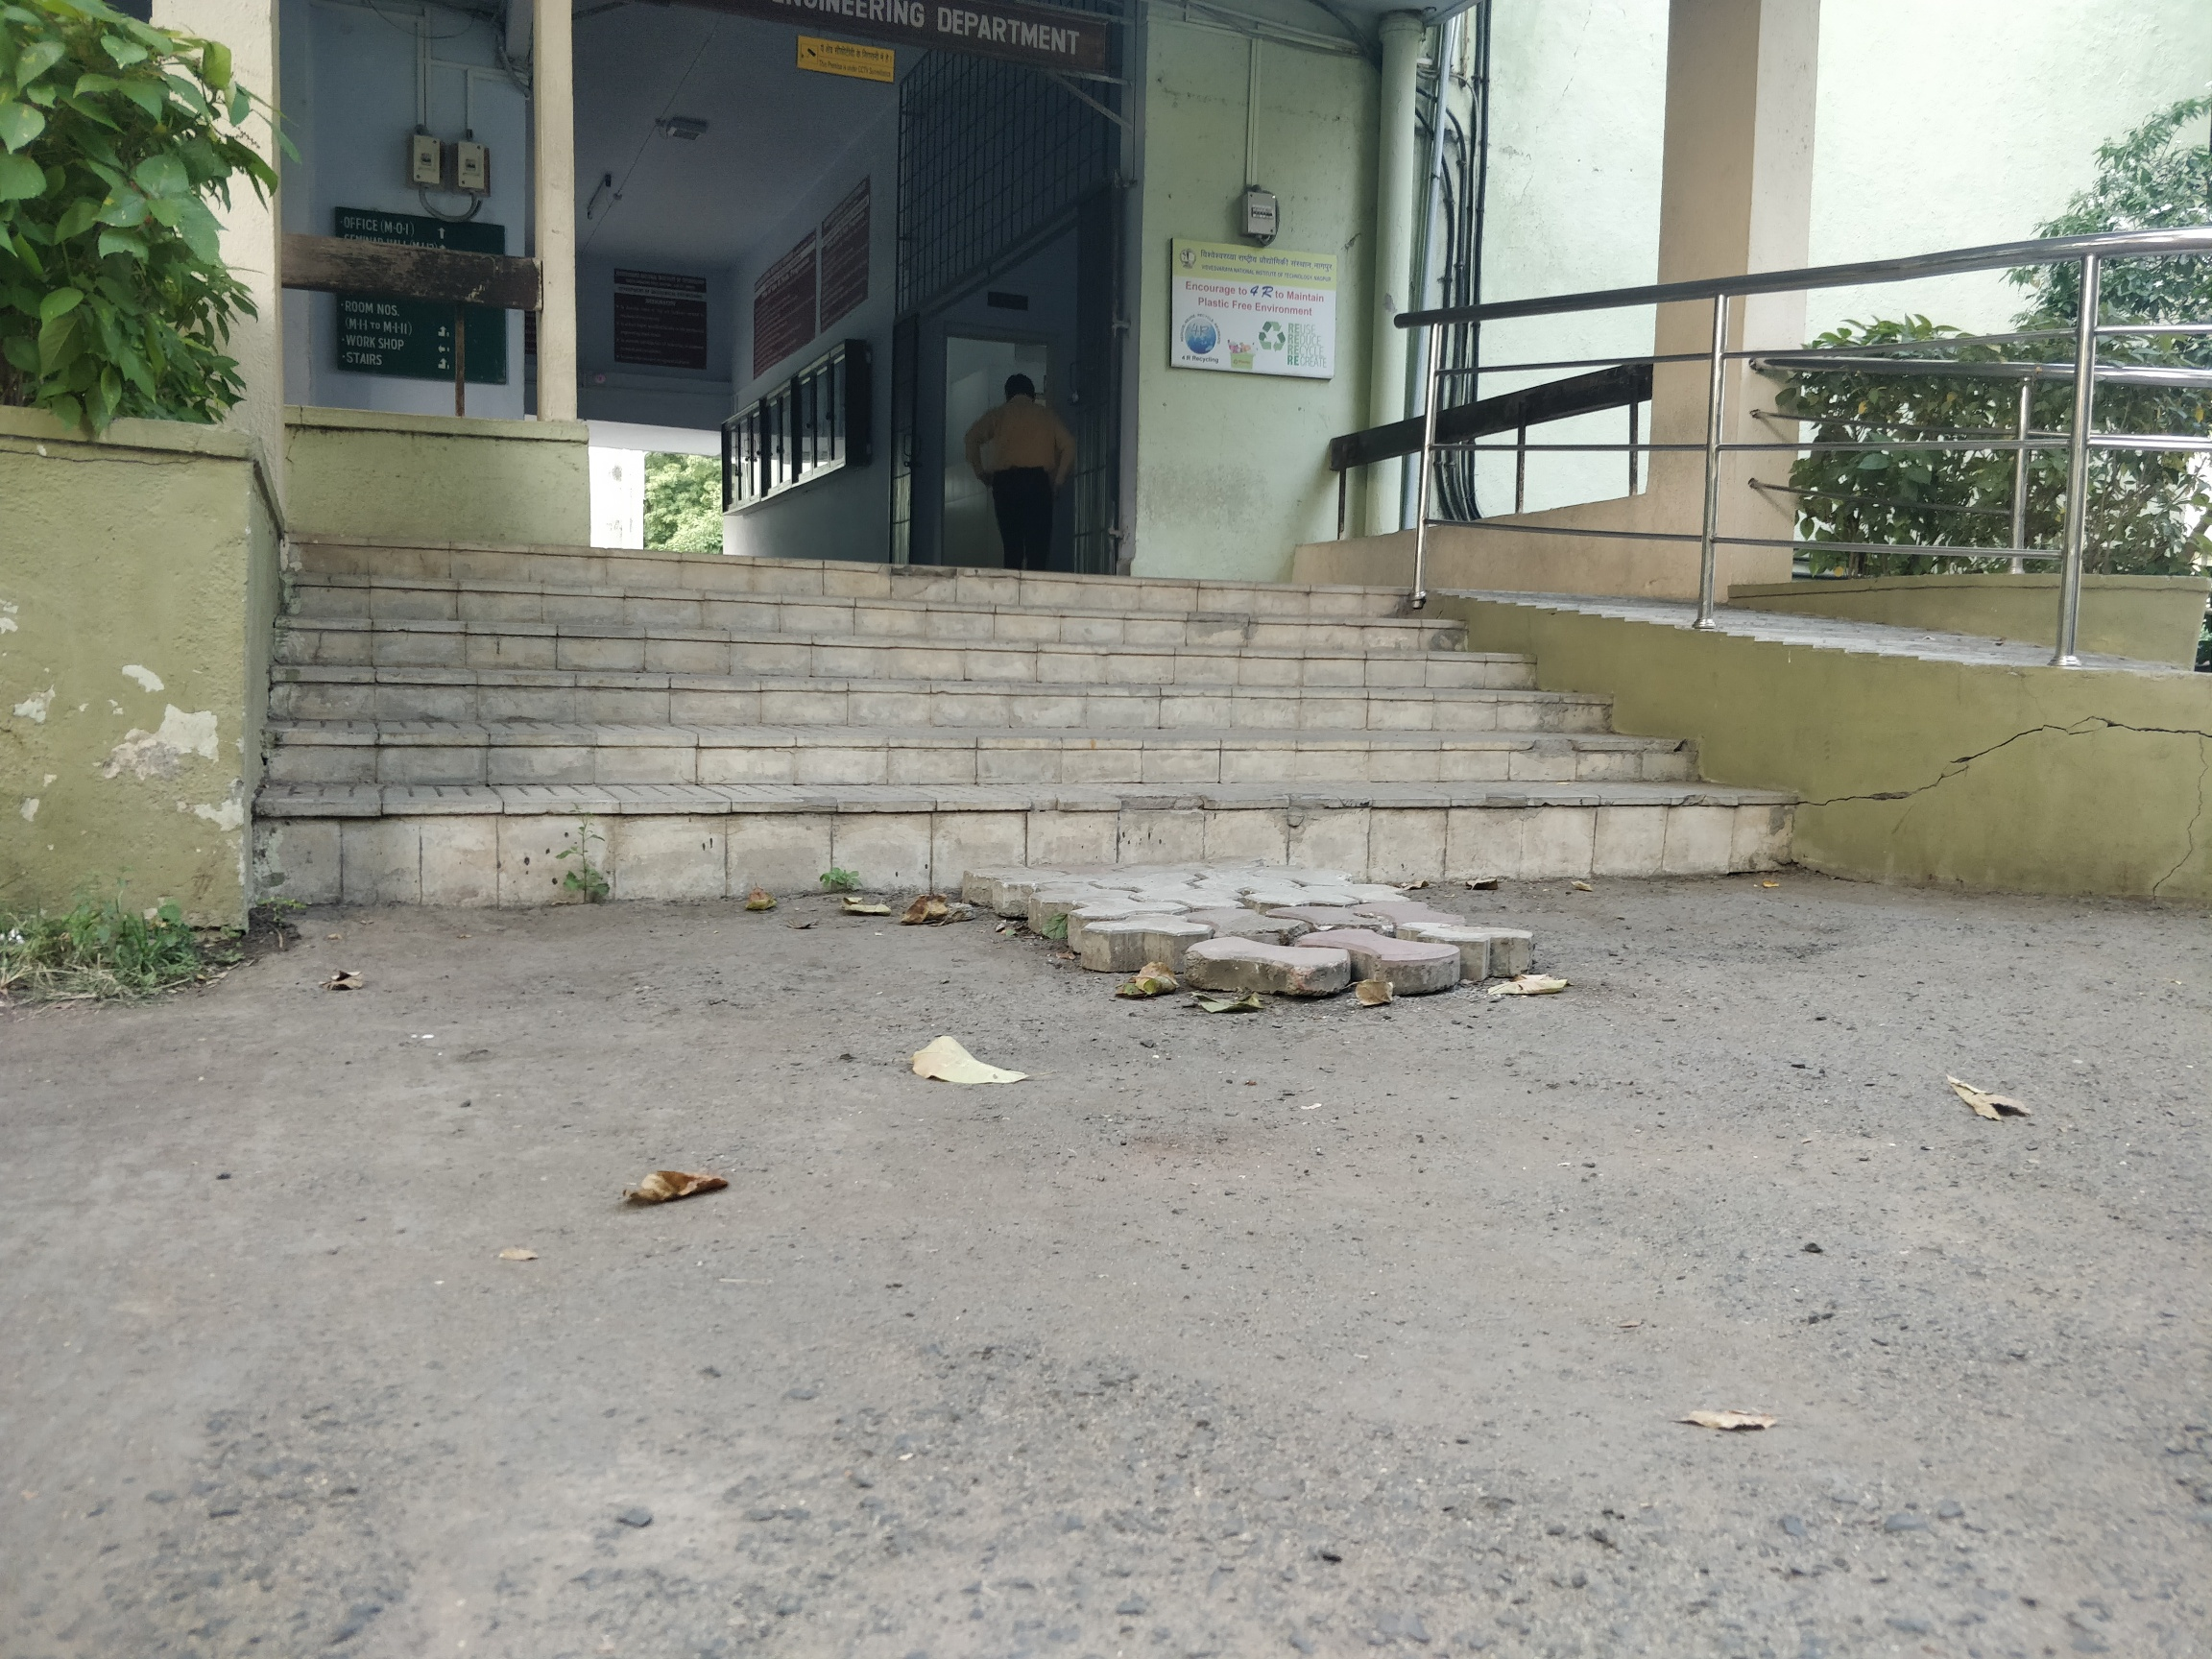stairs_up: (258, 477, 1799, 904)
